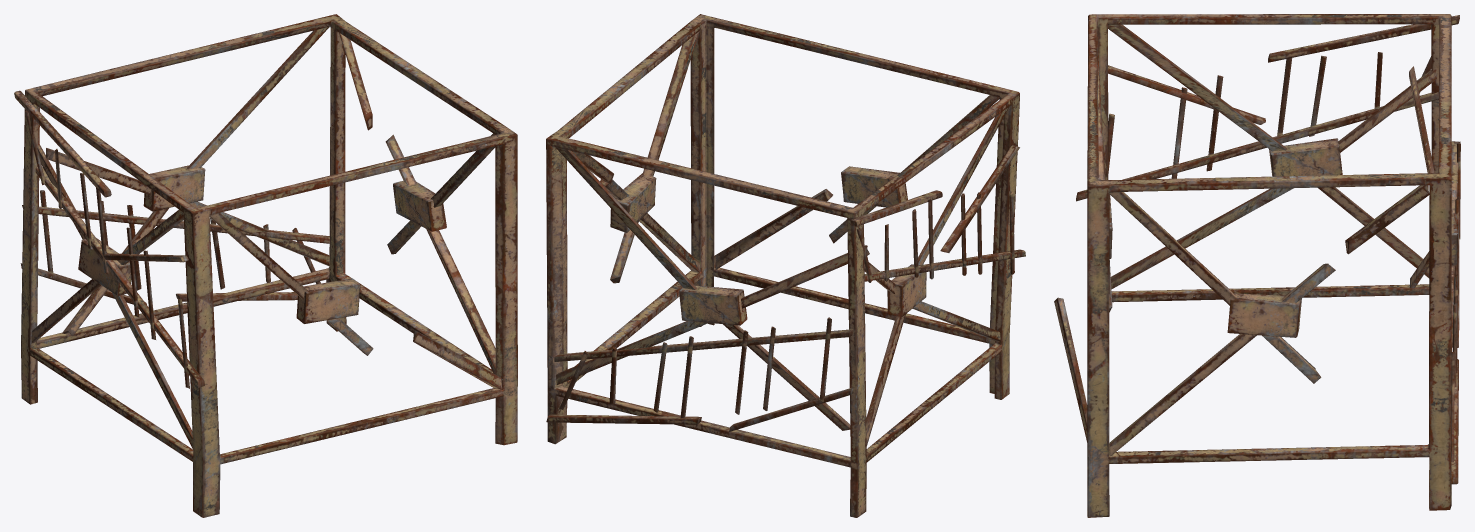
Rendered from SM_Structure_Bottom.fbx.
3 renders of one model, left to right at view 1: azimuth 30°, elevation 25°; view 2: azimuth 150°, elevation 25°; view 3: azimuth 270°, elevation 25°, orthographic. The views are drawn at different scales.
Visible parts, largest first — view 1: SM_Structure_Bottom_LOD0; view 2: SM_Structure_Bottom_LOD0; view 3: SM_Structure_Bottom_LOD0.
Boxes of the visible parts, box(x1,y1,x2,y2) form: SM_Structure_Bottom_LOD0: box(14, 14, 517, 517); SM_Structure_Bottom_LOD0: box(546, 14, 1025, 517); SM_Structure_Bottom_LOD0: box(1054, 14, 1460, 517).
Bounding box in the file's own units: 263 × 258 × 233.
1 material, 1 textured.
